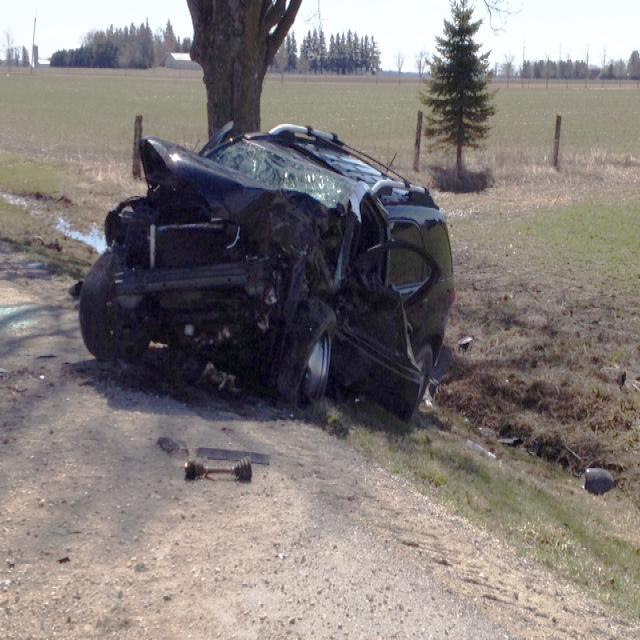crush: (103, 133, 439, 418)
